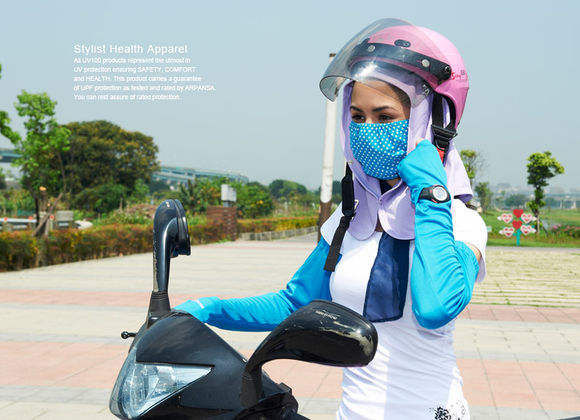face_mask: (349, 96, 409, 180)
